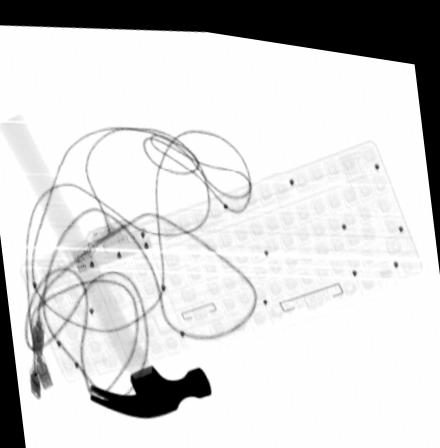Hammer: (0, 113, 212, 414)
